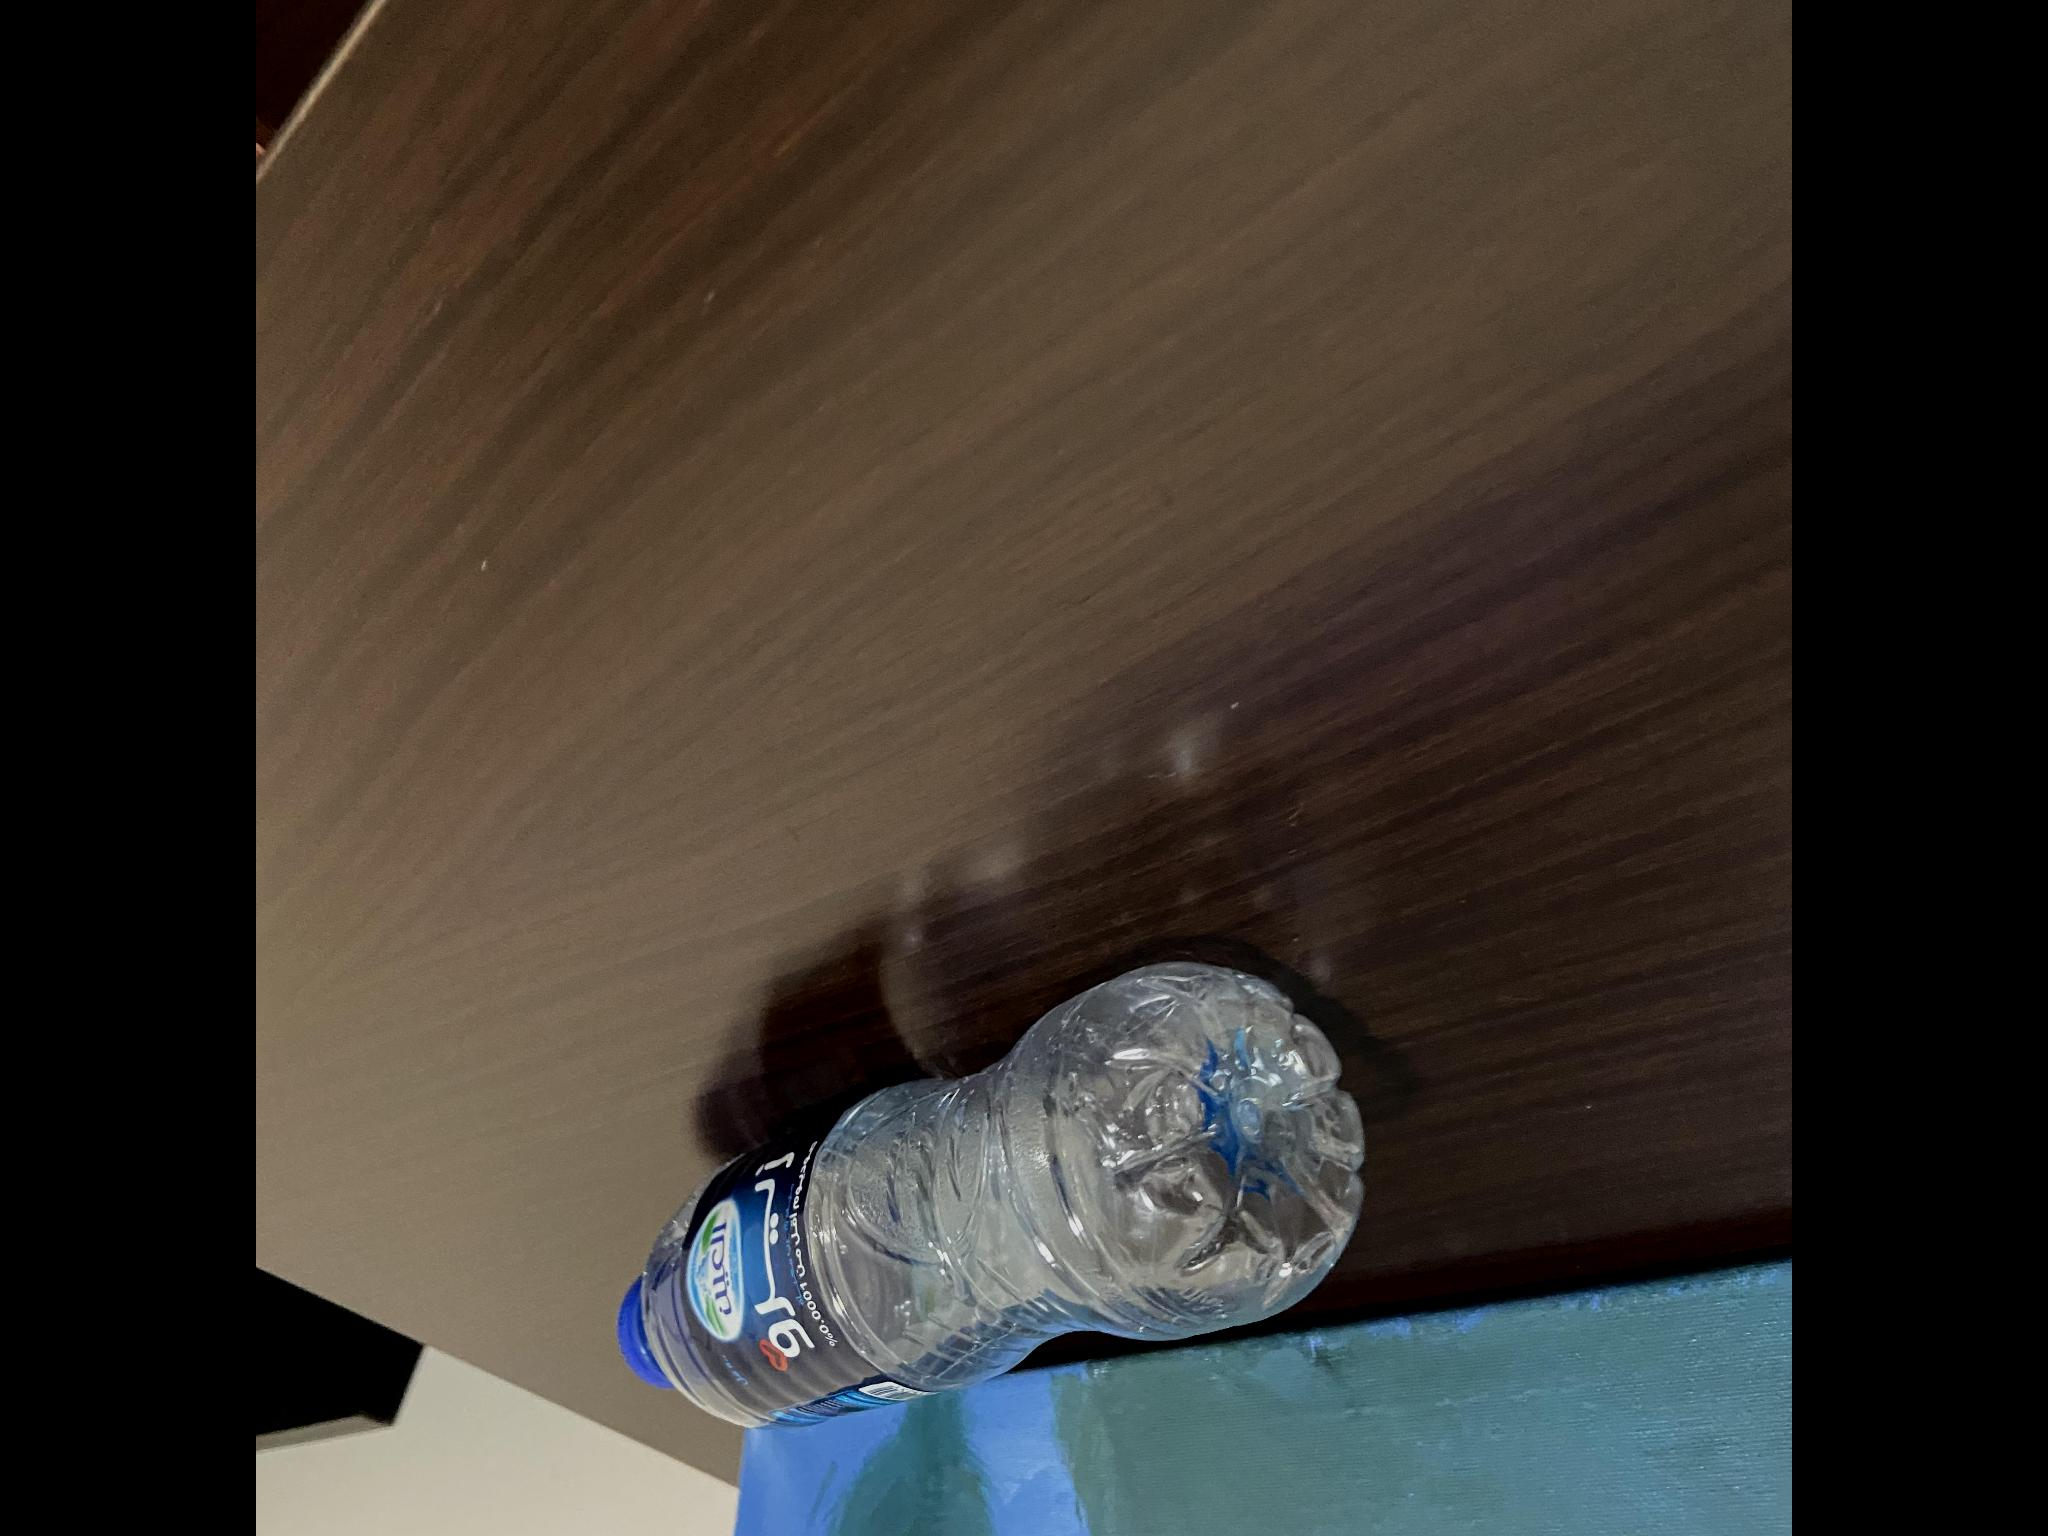bottle: (519, 218, 889, 1242)
